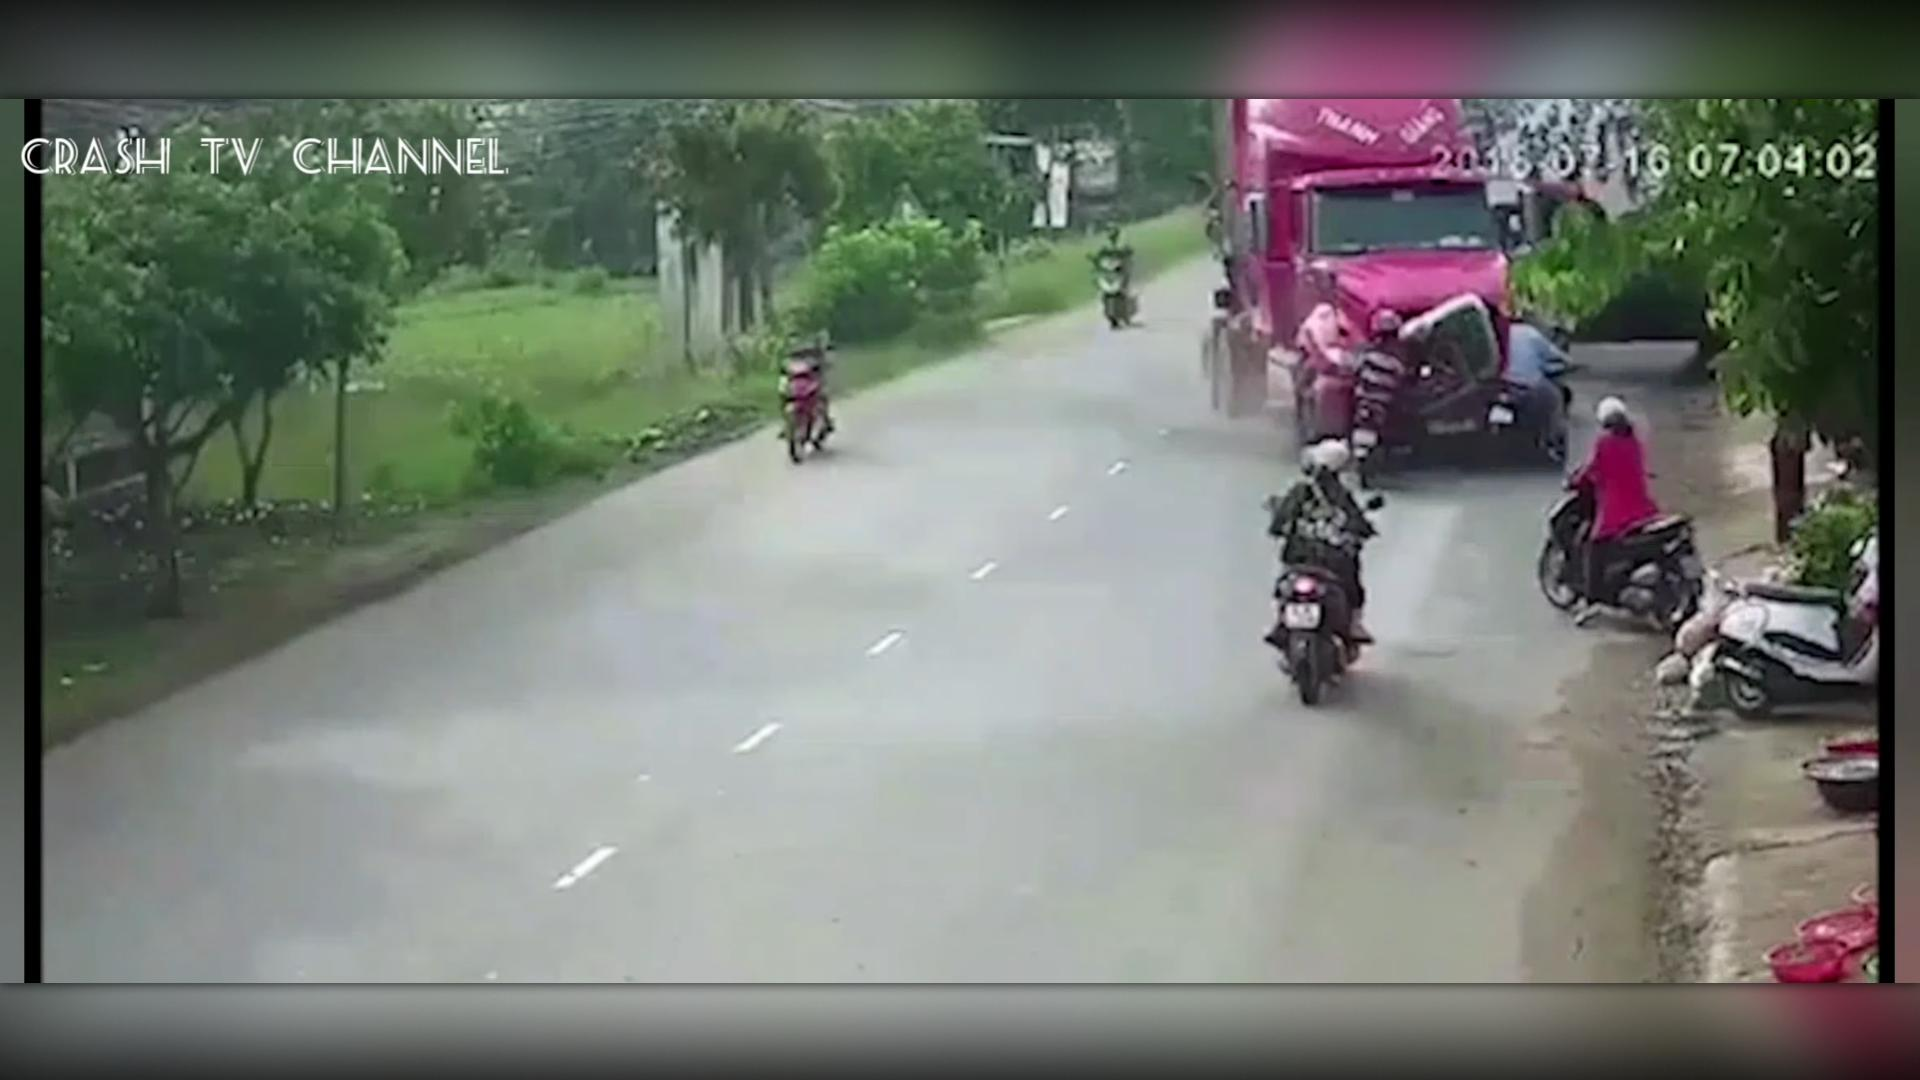accident: (1300, 276, 1576, 458)
motorcycle: (1531, 389, 1717, 632), (1225, 434, 1375, 704), (756, 301, 857, 458), (1489, 295, 1584, 463), (1336, 301, 1420, 480), (1088, 210, 1159, 344)
truck: (1203, 99, 1586, 475)
